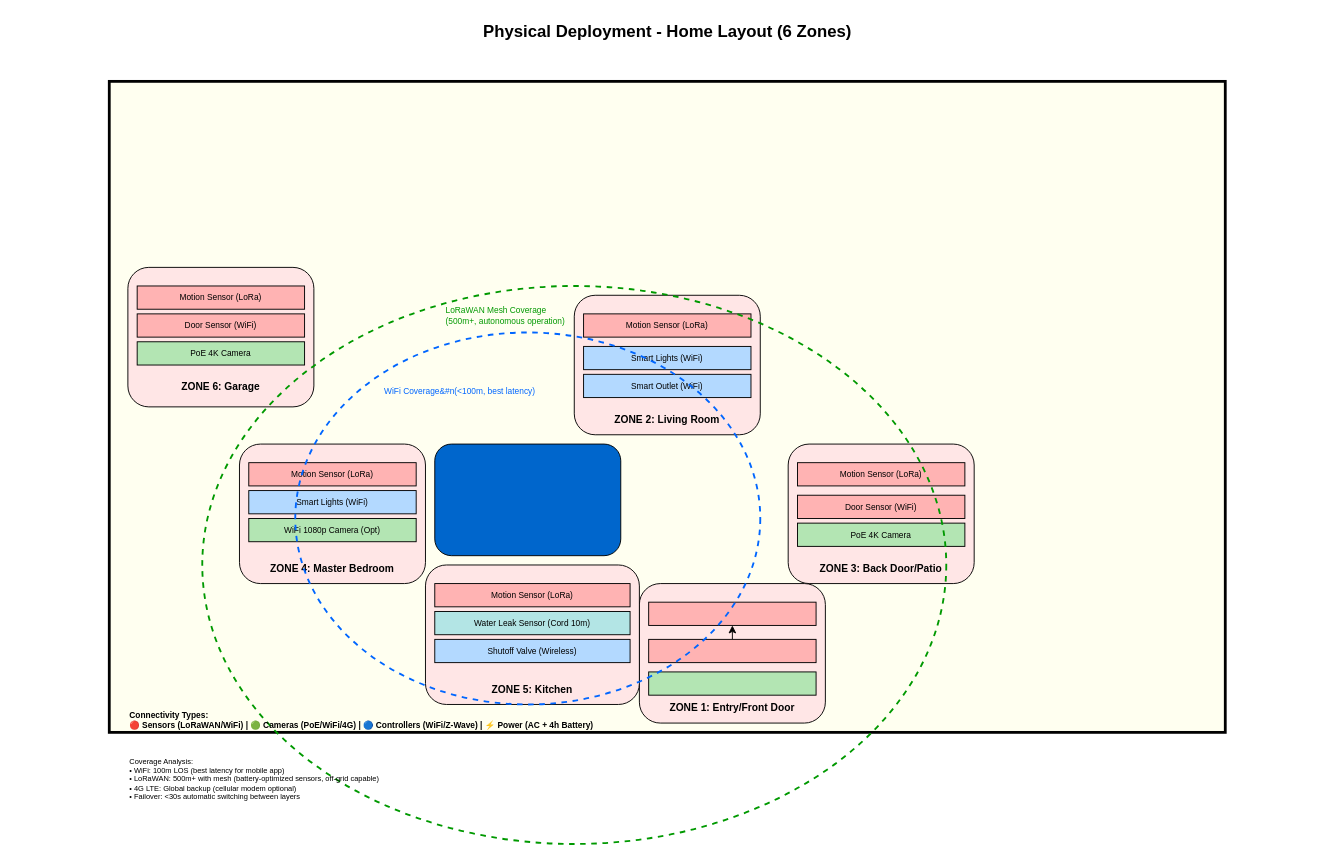
Image size: 1334x860. Some labels were removed from this diagram. The centre of each missing label's shape, as x and y in pixels:
"Door Sensor (Wired)" goes at (732,650).
"Doorbell 2K Camera" goes at (732,683).
"Motion Sensor" goes at (732,613).
"🔶 CENTRAL HUB (Central Location) Raspberry Pi 4B" goes at (527,499).
